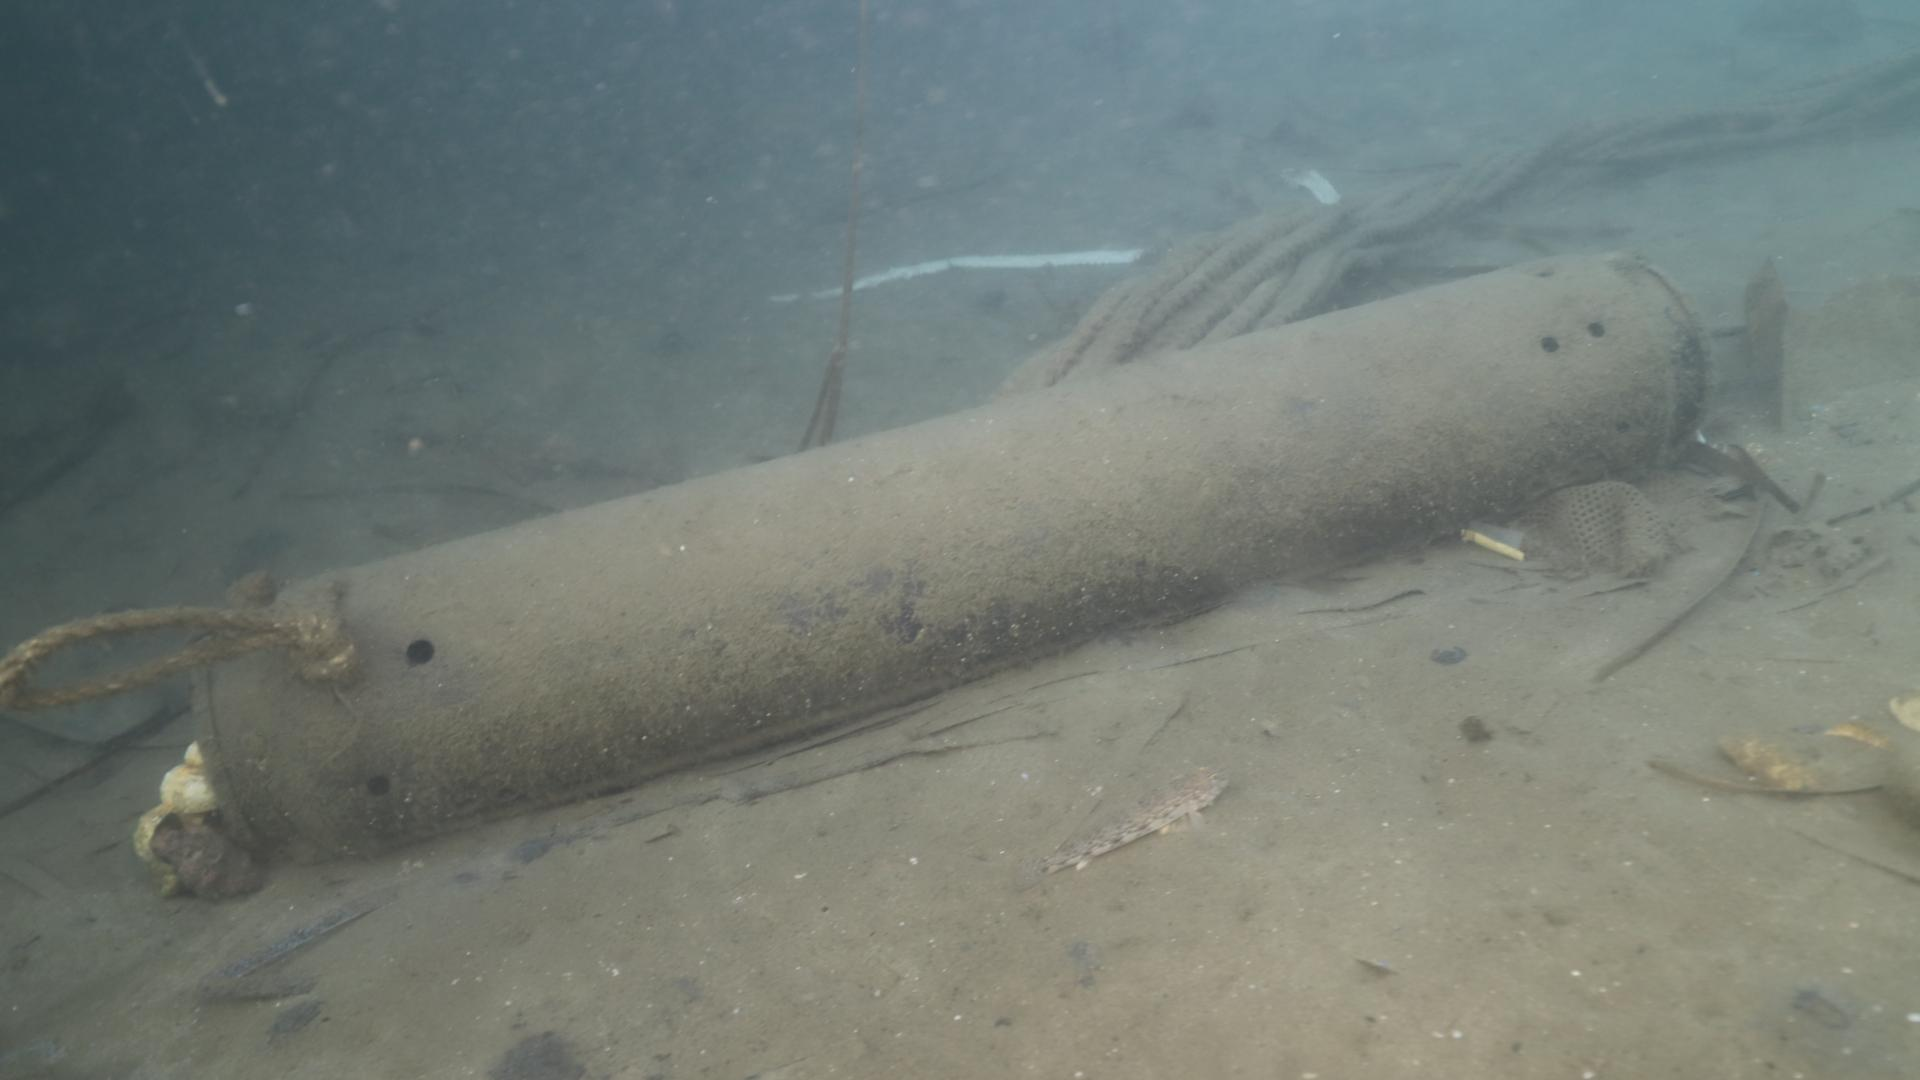bundle of ropes: (994, 44, 1920, 400), (0, 607, 357, 711)
eel fish trap: (183, 249, 1717, 872)
